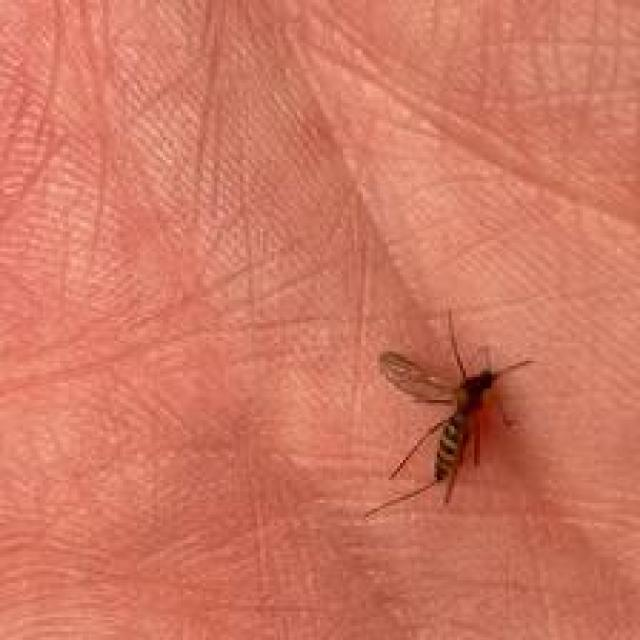Culex: (363, 307, 534, 522)
